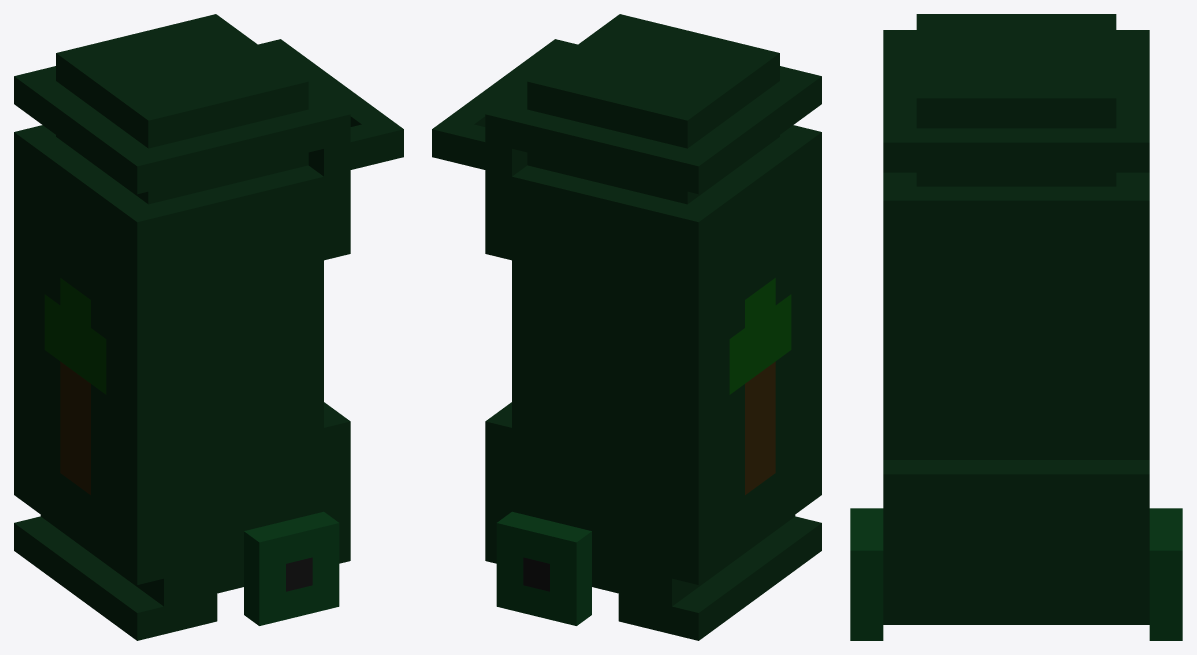
File: wheelie_bin.fbx
3 views of the same model, side by side, from view 1: azimuth 30°, elevation 25°; view 2: azimuth 150°, elevation 25°; view 3: azimuth 270°, elevation 25° (orthographic). The views are drawn at different scales.
Visible parts, largest first — view 1: Matrix; view 2: Matrix; view 3: Matrix.
Boxes of the visible parts, box(x1,y1,x2,y2) form: Matrix: box(14, 14, 403, 640); Matrix: box(432, 14, 821, 640); Matrix: box(850, 14, 1182, 640).
Bounding box in the file's own units: 10 × 18 × 10.
